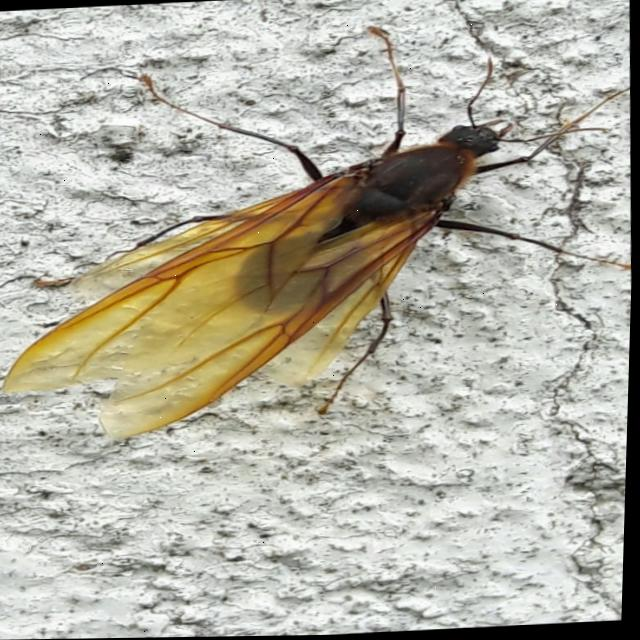Alive-Male-Alate: (0, 15, 639, 446)
